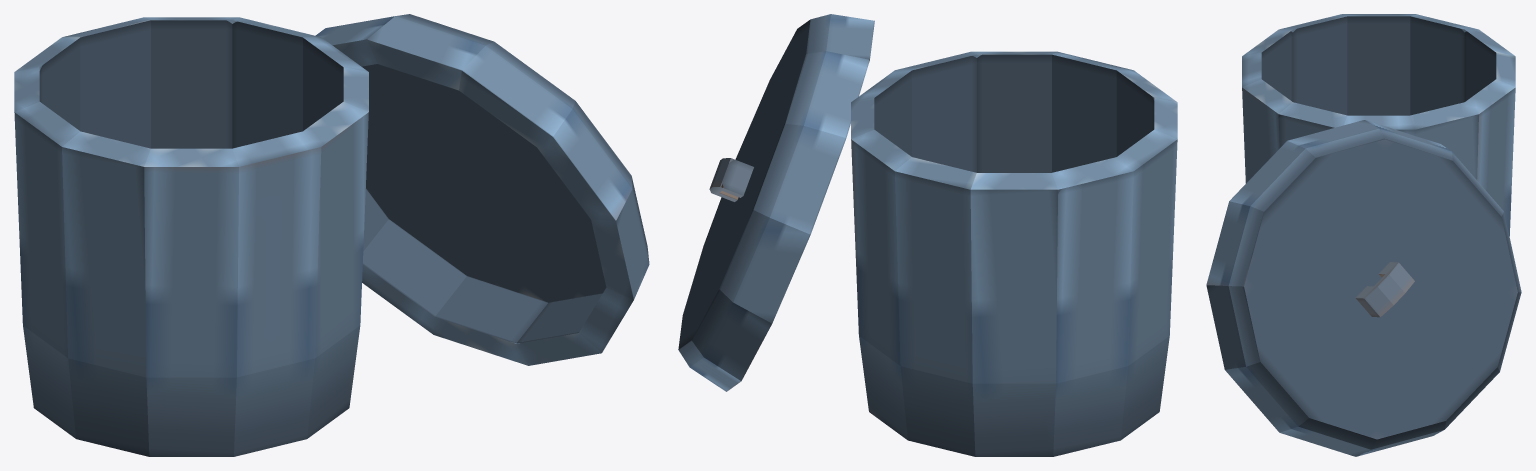
Rendered from Trashcan.fbx.
The picture shows the model from 3 angles, left to right: view 1: azimuth 30°, elevation 25°; view 2: azimuth 150°, elevation 25°; view 3: azimuth 270°, elevation 25°; orthographic projection. The views are drawn at different scales.
Parts seen in each view (by area): view 1: cylinder, cylinder_1; view 2: cylinder, cylinder_1, cuboid; view 3: cylinder_1, cylinder, cuboid.
Part boxes in pixels (x1,y1,x2,y2): cylinder: [14, 17, 368, 456]; cylinder_1: [315, 14, 649, 365]; cylinder: [851, 51, 1177, 456]; cylinder_1: [678, 14, 874, 391]; cuboid: [709, 158, 753, 201]; cylinder_1: [1206, 120, 1521, 456]; cylinder: [1242, 14, 1515, 236]; cuboid: [1356, 262, 1414, 317].
Size of the model in its own units: 183 by 120 by 121.
1 material, 1 textured.
